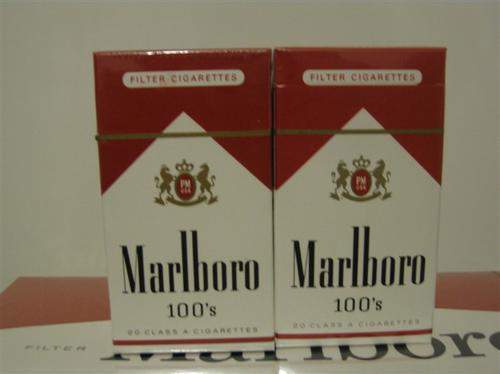marlboro: (98, 55, 269, 350), (277, 50, 442, 344)
